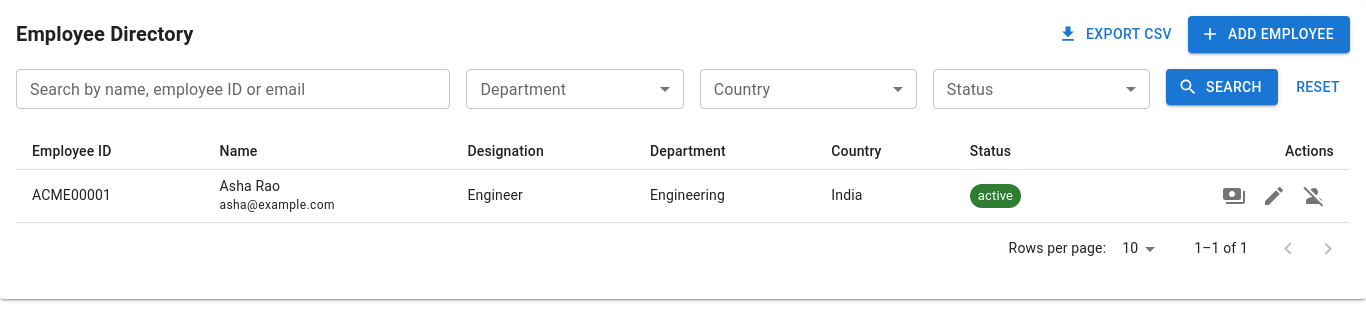
Test: reset clears the applied filters
The width and height of the screenshot is (1366, 319).
Expected: the text "ACME00001" is shown, [16,169,204,222]
Step 1. Type "asha" into the field labelled "Search by name, employee ID or email" → point(233, 88), box [16,68,450,108]
Then press Enter
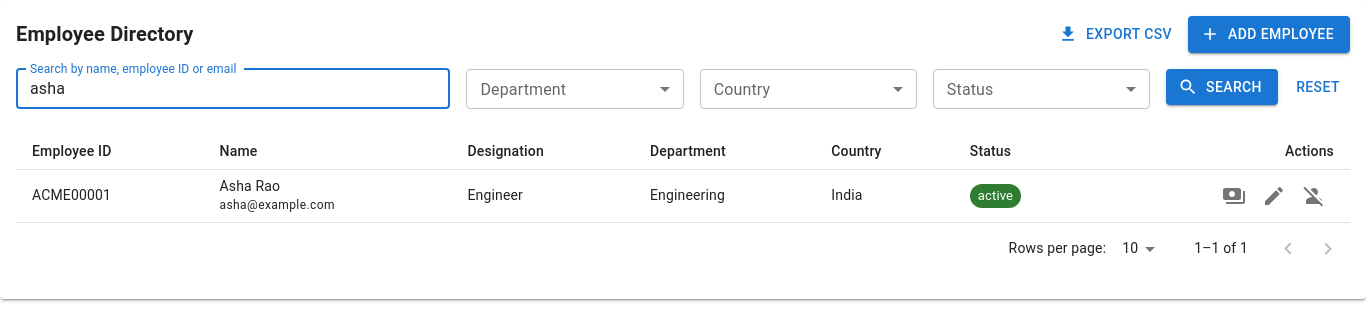
Step 2. Click the button "Reset" → point(1318, 87), box [1286,68,1350,105]
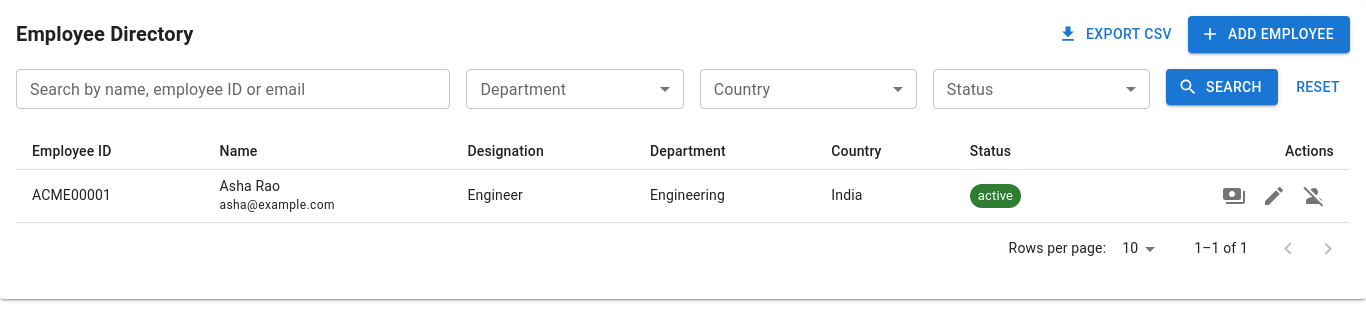
Result: the field labelled "Search by name, employee ID or email" is empty at [16,68,450,108]
